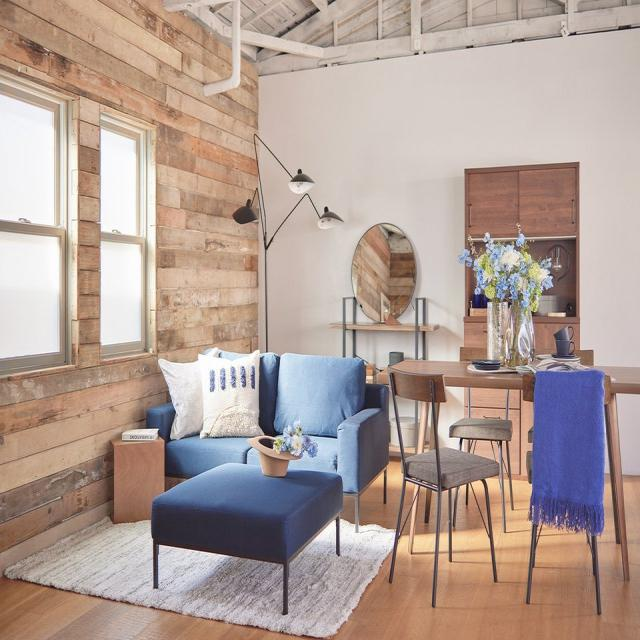vintage chair: (385, 371, 503, 614)
vintage sofa: (145, 346, 381, 475)
